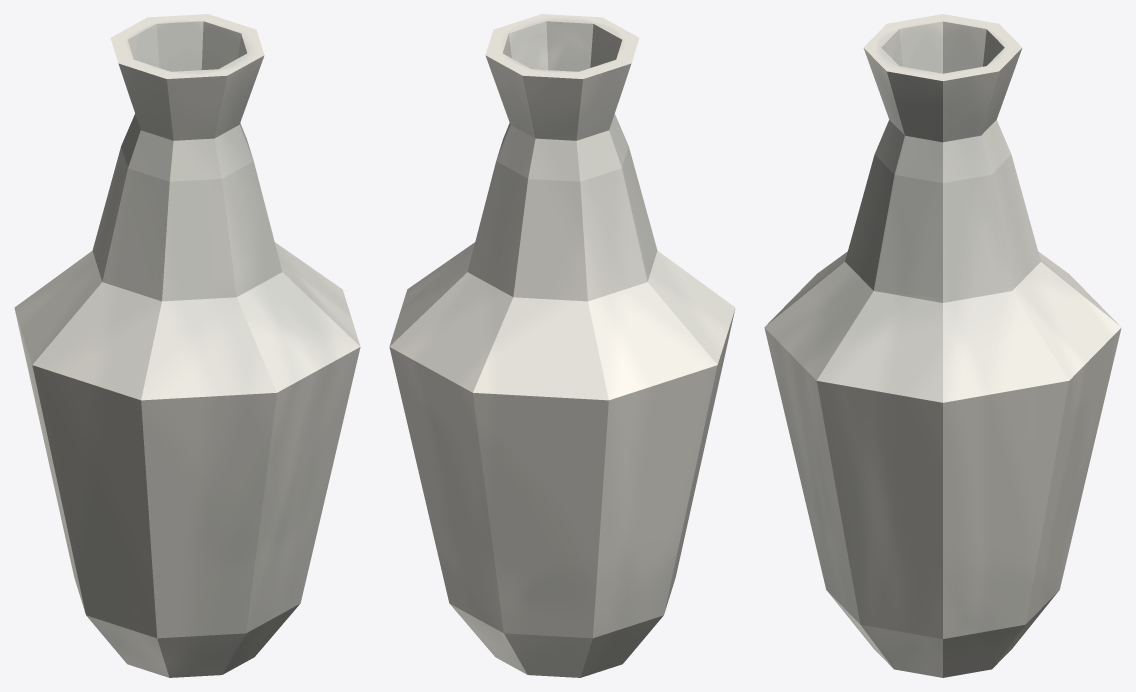
The model's file is Vase.glb.
3 renders of one model, left to right at view 1: azimuth 30°, elevation 25°; view 2: azimuth 150°, elevation 25°; view 3: azimuth 270°, elevation 25°, orthographic.
Visible parts, largest first — view 1: Cylinder; view 2: Cylinder; view 3: Cylinder.
Part boxes in pixels (bbox=[...]): Cylinder: bbox=[14, 14, 360, 677]; Cylinder: bbox=[389, 14, 735, 677]; Cylinder: bbox=[764, 14, 1121, 677].
Bounding box in the file's own units: 2.41 × 4.47 × 2.41.
Materials: 1 (1 with a texture image).
